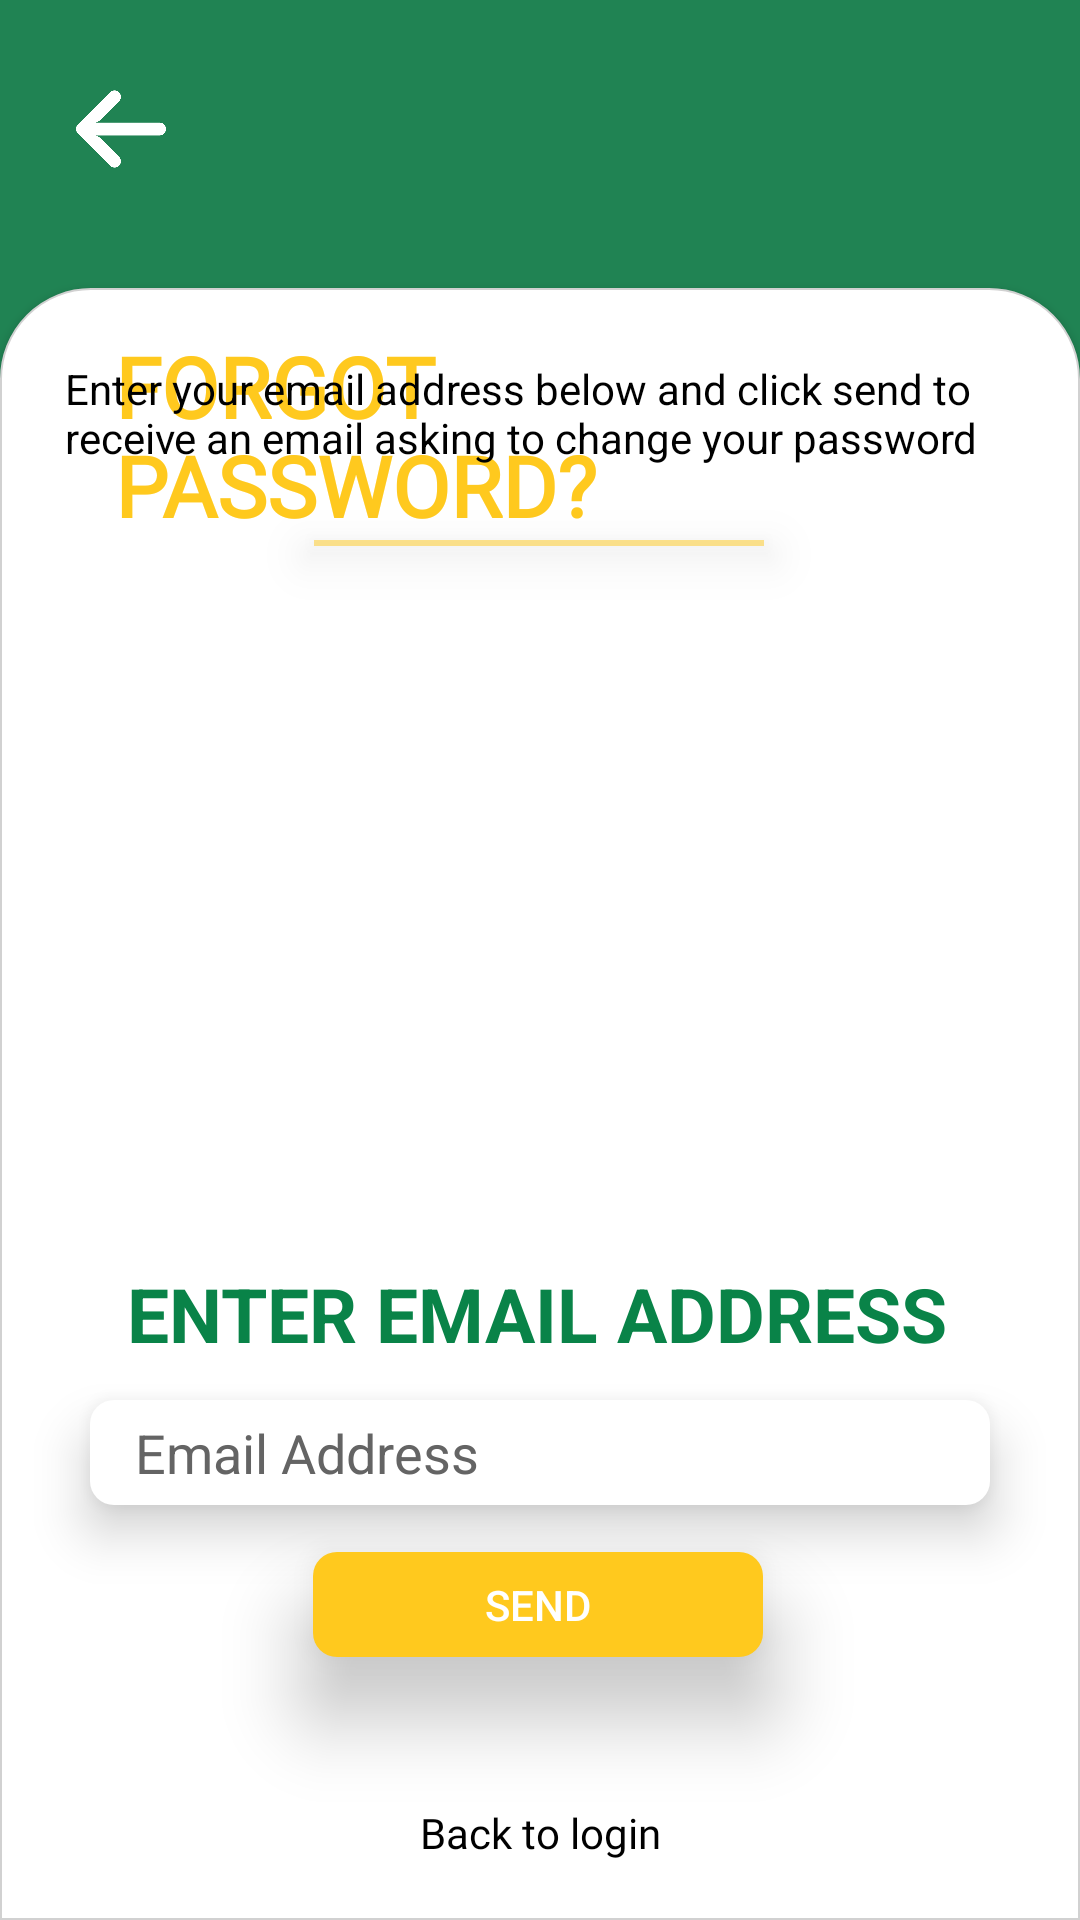

Screen size 1080*1920. Icon name, then its box in pixels as (x1,y1,x2,y2):
arrow back: (76,90,166,168)
